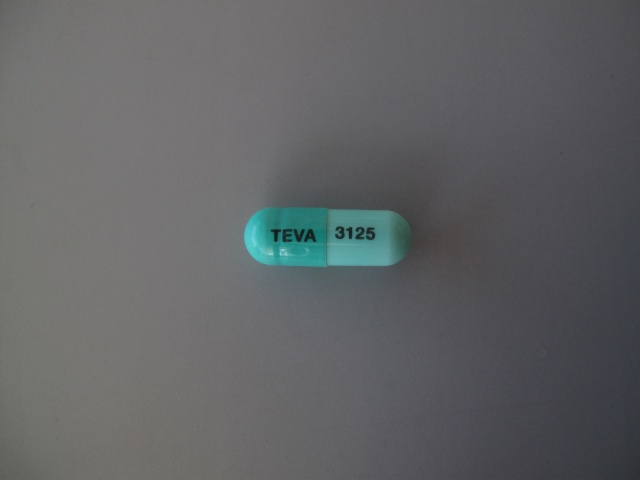capsule: (244, 205, 414, 268)
